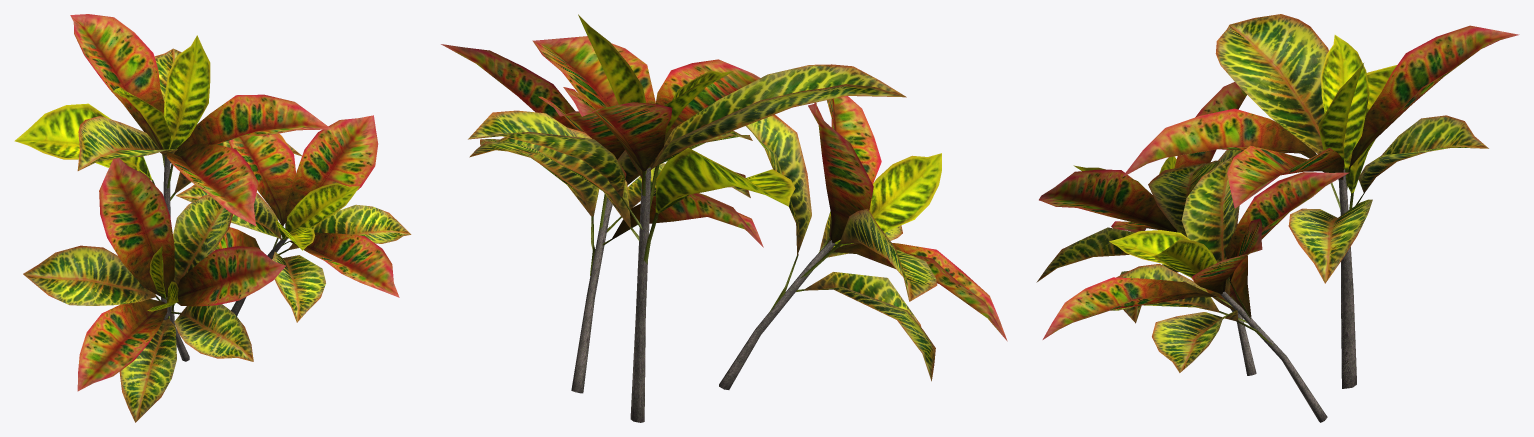
Rendered from Croton_C.FBX.
3 views of the same model, side by side, from view 1: azimuth 30°, elevation 25°; view 2: azimuth 150°, elevation 25°; view 3: azimuth 270°, elevation 25° (orthographic). The views are drawn at different scales.
Parts seen in each view (by area): view 1: Croton_C_02, Croton_C_01, Croton_C_03; view 2: Croton_C_01, Croton_C_02, Croton_C_03; view 3: Croton_C_01, Croton_C_03, Croton_C_02.
Part boxes in pixels (left/top/right/bottom): Croton_C_02: left=23, top=158, right=285, bottom=422; Croton_C_01: left=14, top=14, right=331, bottom=320; Croton_C_03: left=176, top=115, right=411, bottom=322; Croton_C_01: left=468, top=14, right=906, bottom=422; Croton_C_02: left=719, top=96, right=1007, bottom=389; Croton_C_03: left=441, top=44, right=763, bottom=393; Croton_C_01: left=1122, top=14, right=1519, bottom=388; Croton_C_03: left=1042, top=152, right=1349, bottom=422; Croton_C_02: left=1036, top=82, right=1287, bottom=375.
Bounding box in the file's own units: 110 × 85.59 × 106.
